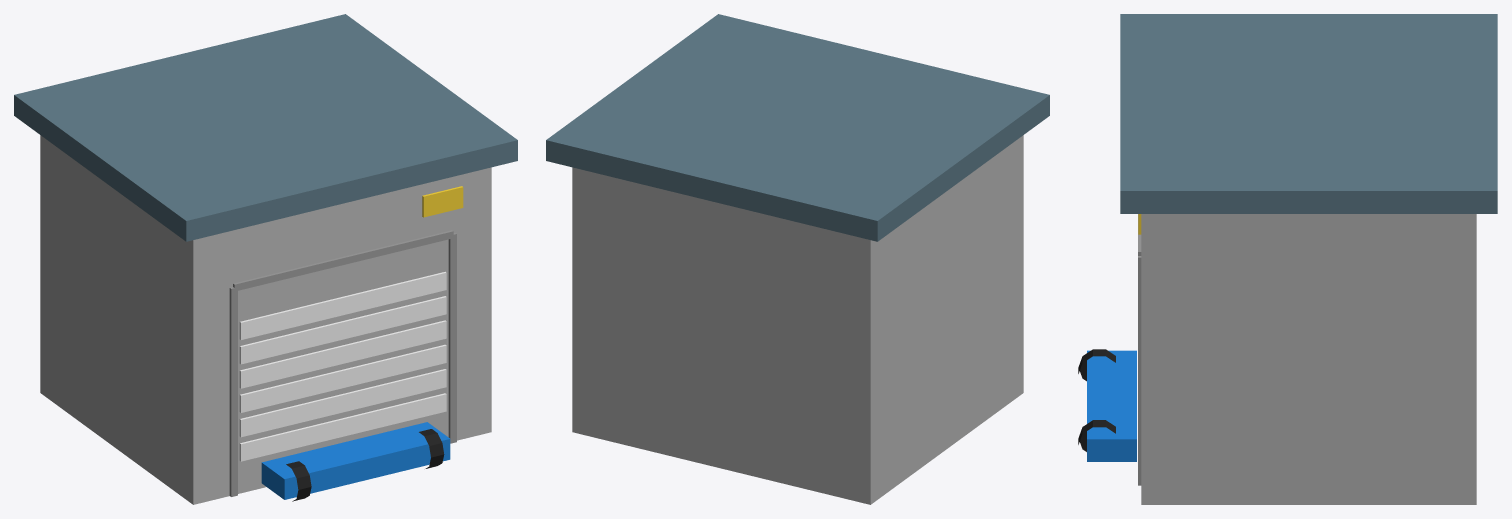
Rendered from garage.glb.
3 views of the same model, side by side, from view 1: azimuth 30°, elevation 25°; view 2: azimuth 150°, elevation 25°; view 3: azimuth 270°, elevation 25° (orthographic). The views are drawn at different scales.
Visible parts, largest first — view 1: garage; view 2: garage; view 3: garage.
Part boxes in pixels (x1,y1,x2,y2): garage: (14, 14, 517, 504); garage: (546, 14, 1049, 504); garage: (1078, 14, 1497, 504).
Bounding box in the file's own units: 1 × 0.85 × 1.
